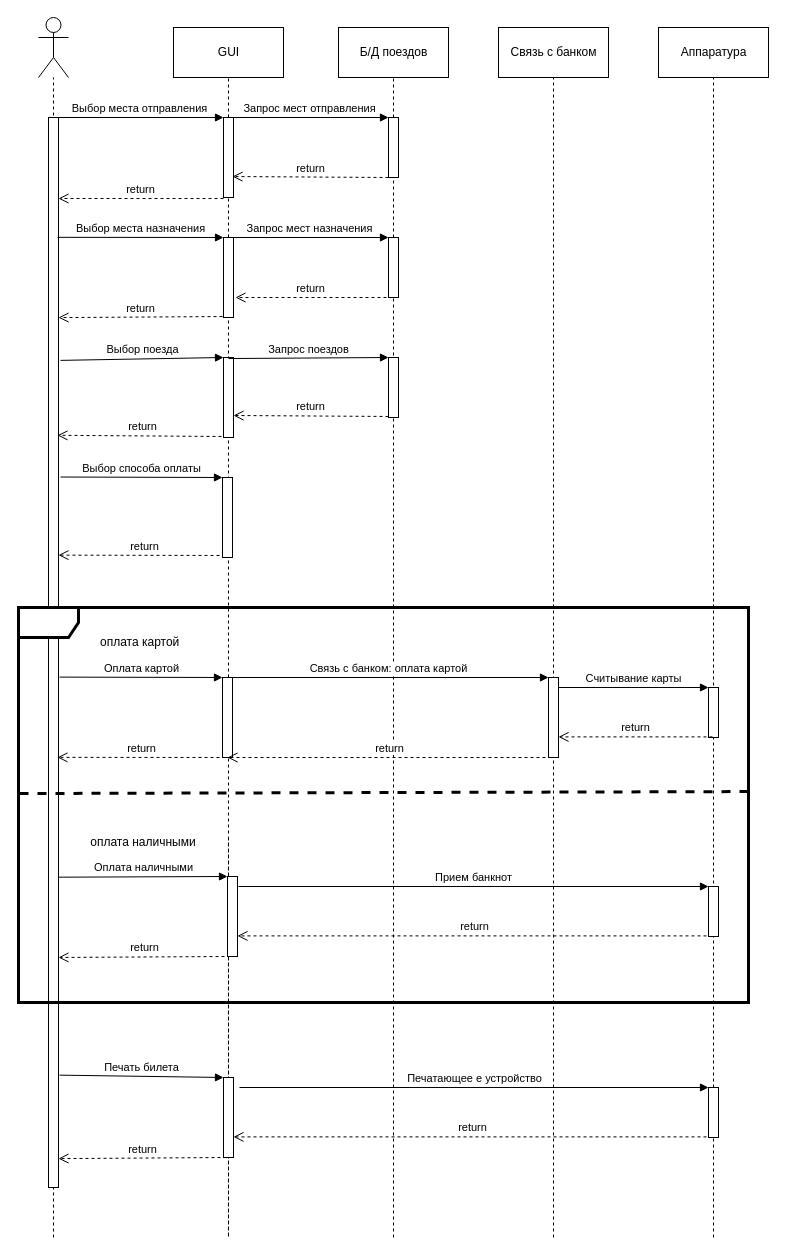
The diagram is 786 pixels wide and 1256 high, and some of its shapes have lost their labels. Each missing label, with the centre of its shape:
alt: the point at 383,805
Покупателль: the point at 53,47
